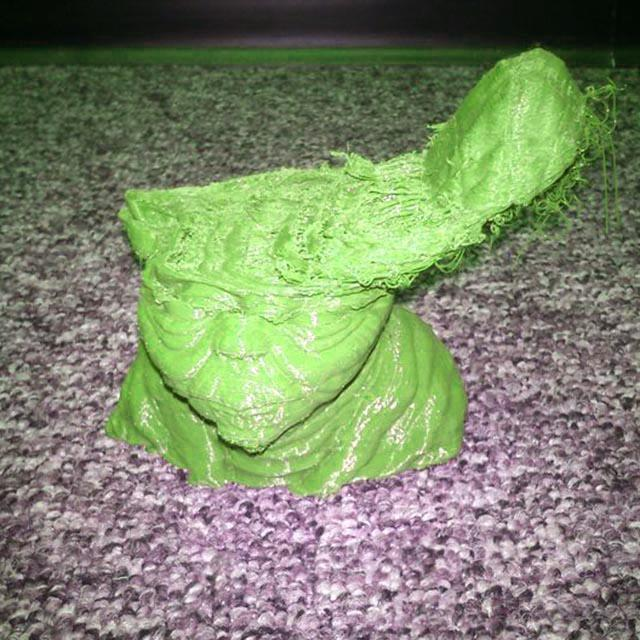Spaghetti: (123, 48, 625, 290)
